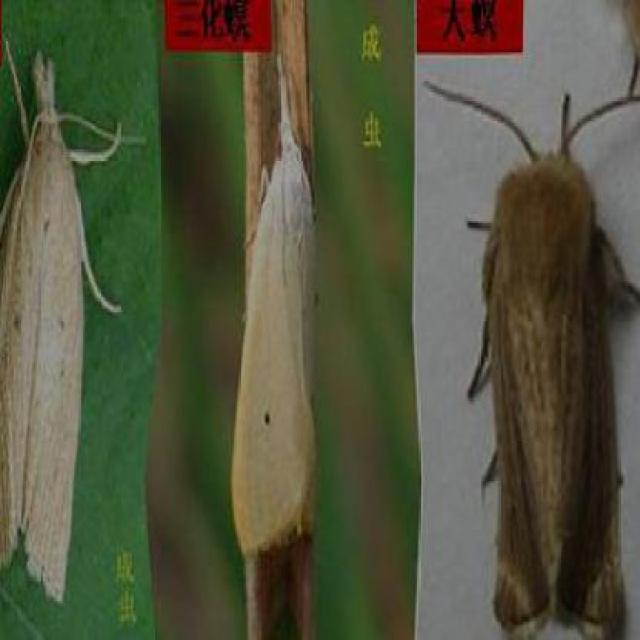stem-borer: (458, 71, 640, 640), (0, 45, 137, 611), (229, 59, 322, 555)
